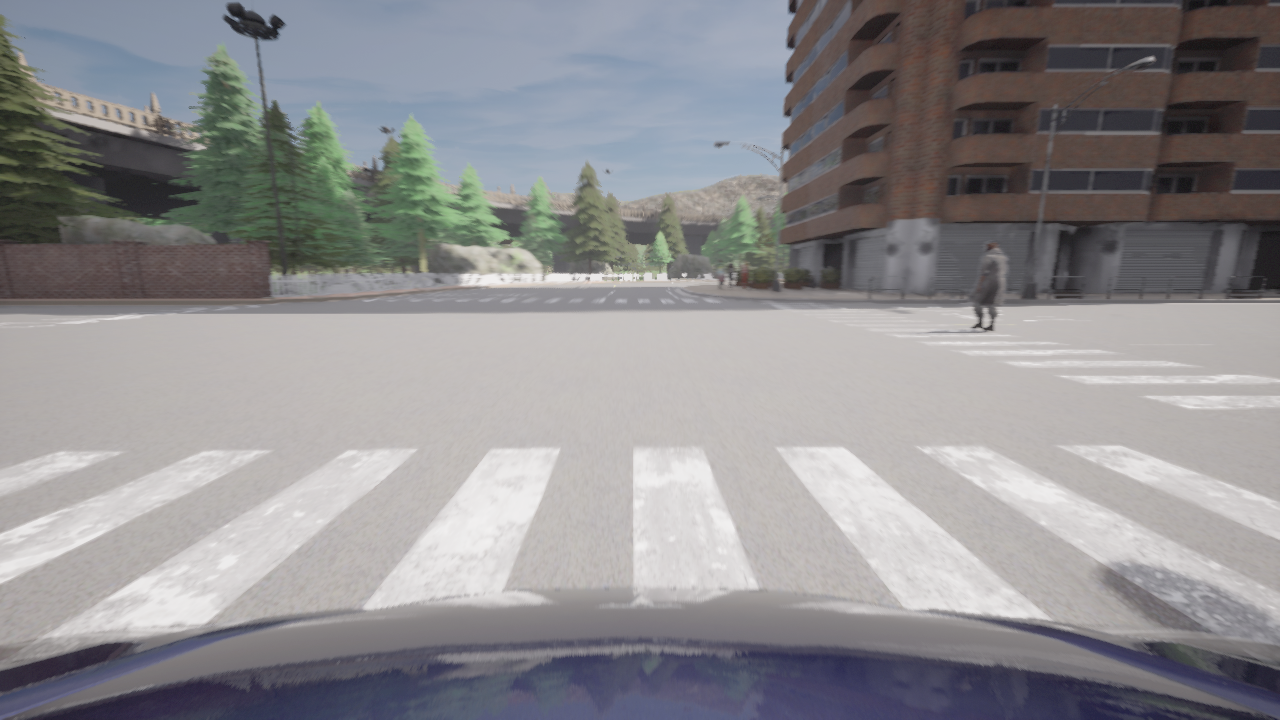cyclist: (0, 588, 1279, 719)
pedestrian: (968, 242, 1006, 331), (714, 259, 725, 289), (726, 259, 734, 289), (740, 260, 748, 289), (722, 276, 725, 289)
